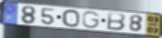5: (41, 8, 57, 26)
8: (20, 5, 37, 25), (128, 15, 144, 33)
B: (106, 12, 127, 32)
G: (82, 11, 102, 30)
O: (61, 9, 81, 28)
